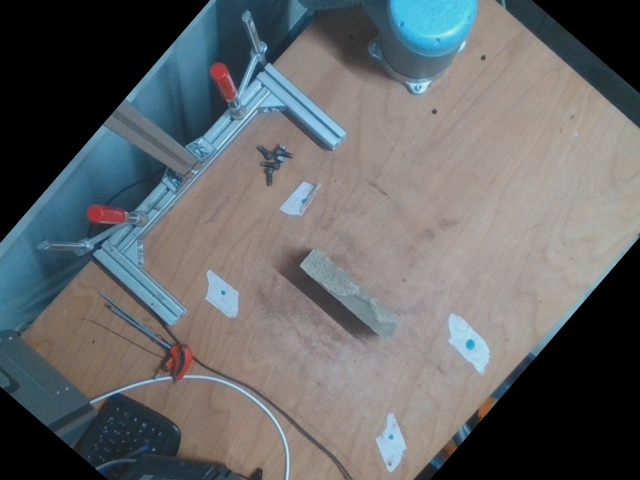brick-side: (298, 247, 402, 342)
